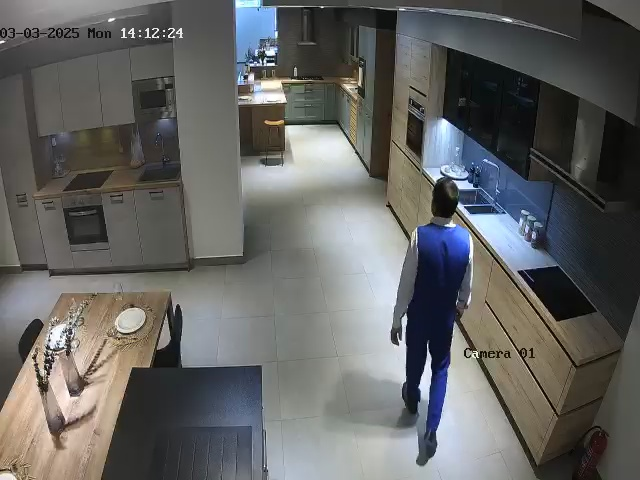employee: (390, 177, 474, 455)
